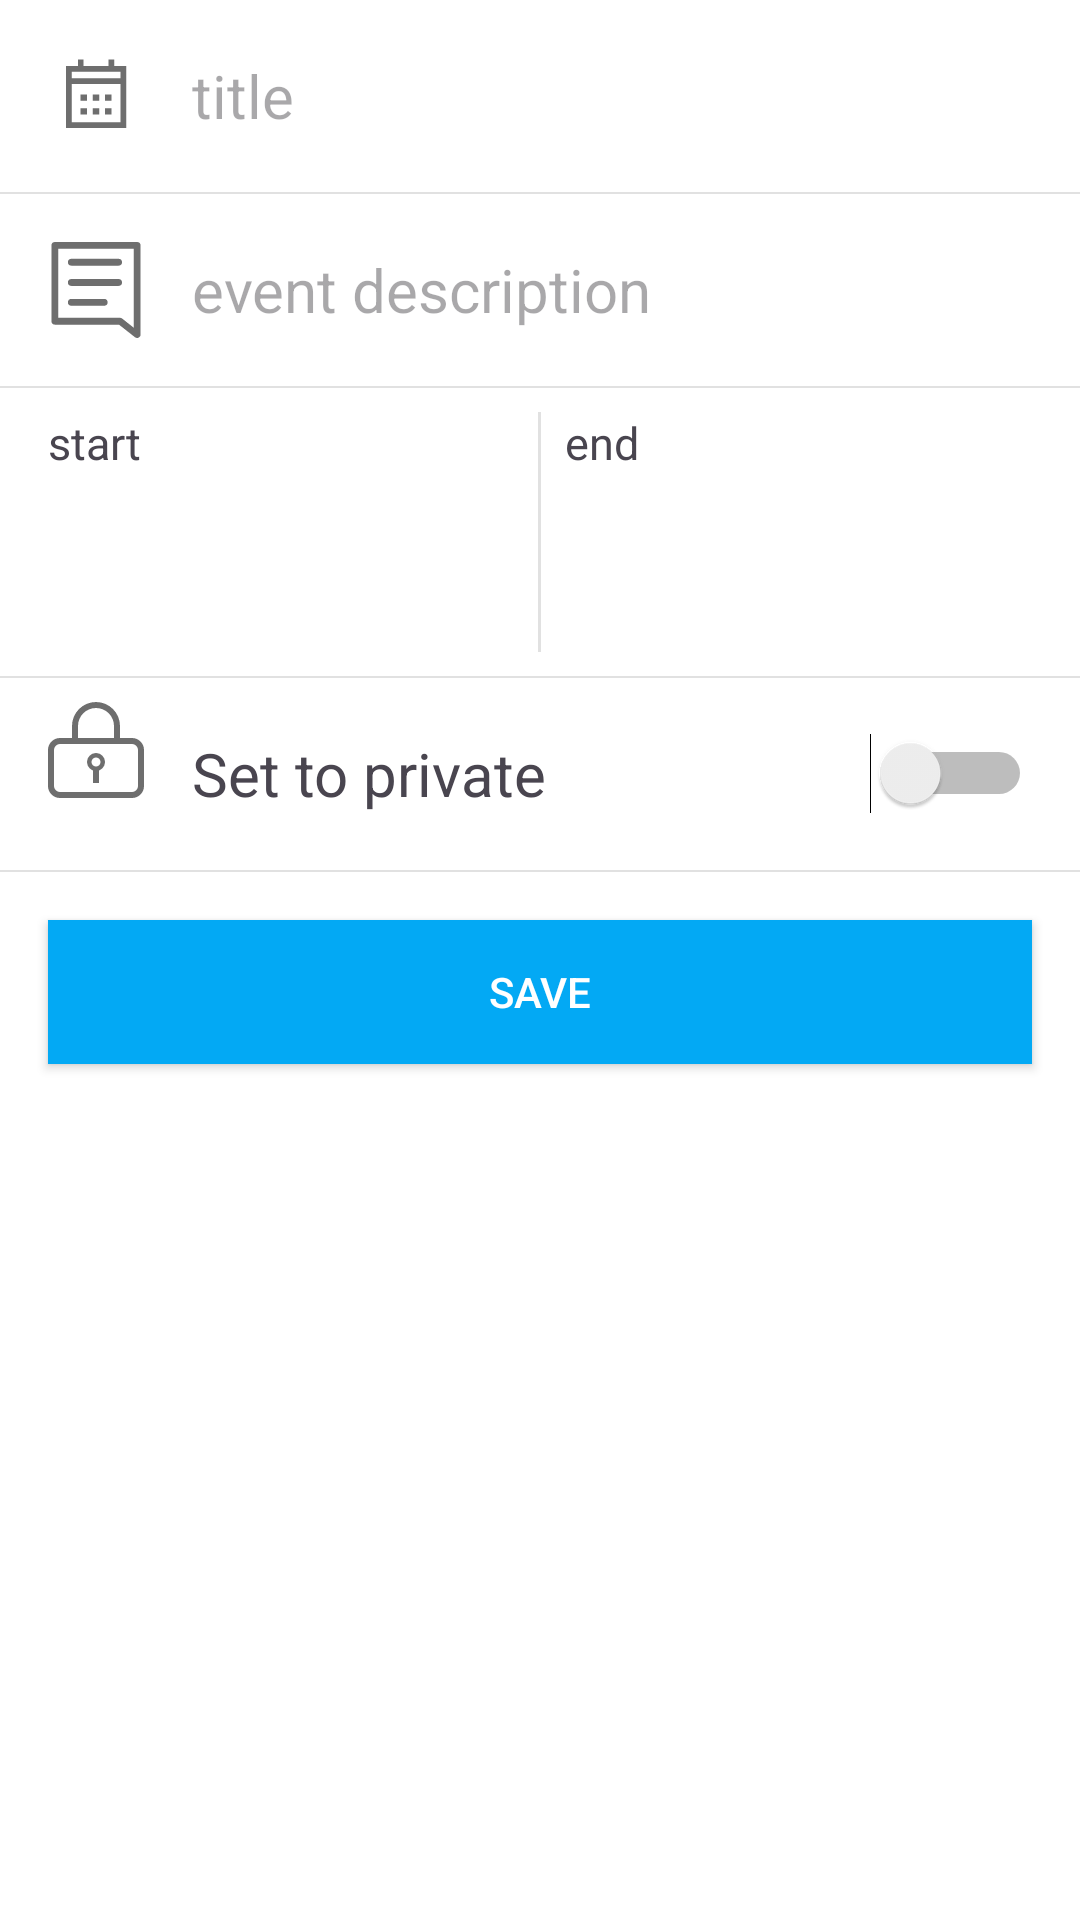

Named icons in this screenshot (1080*1920) and their bounding boxes, (x1, y1, x2, y2):
event personal: (48, 702, 144, 798)
